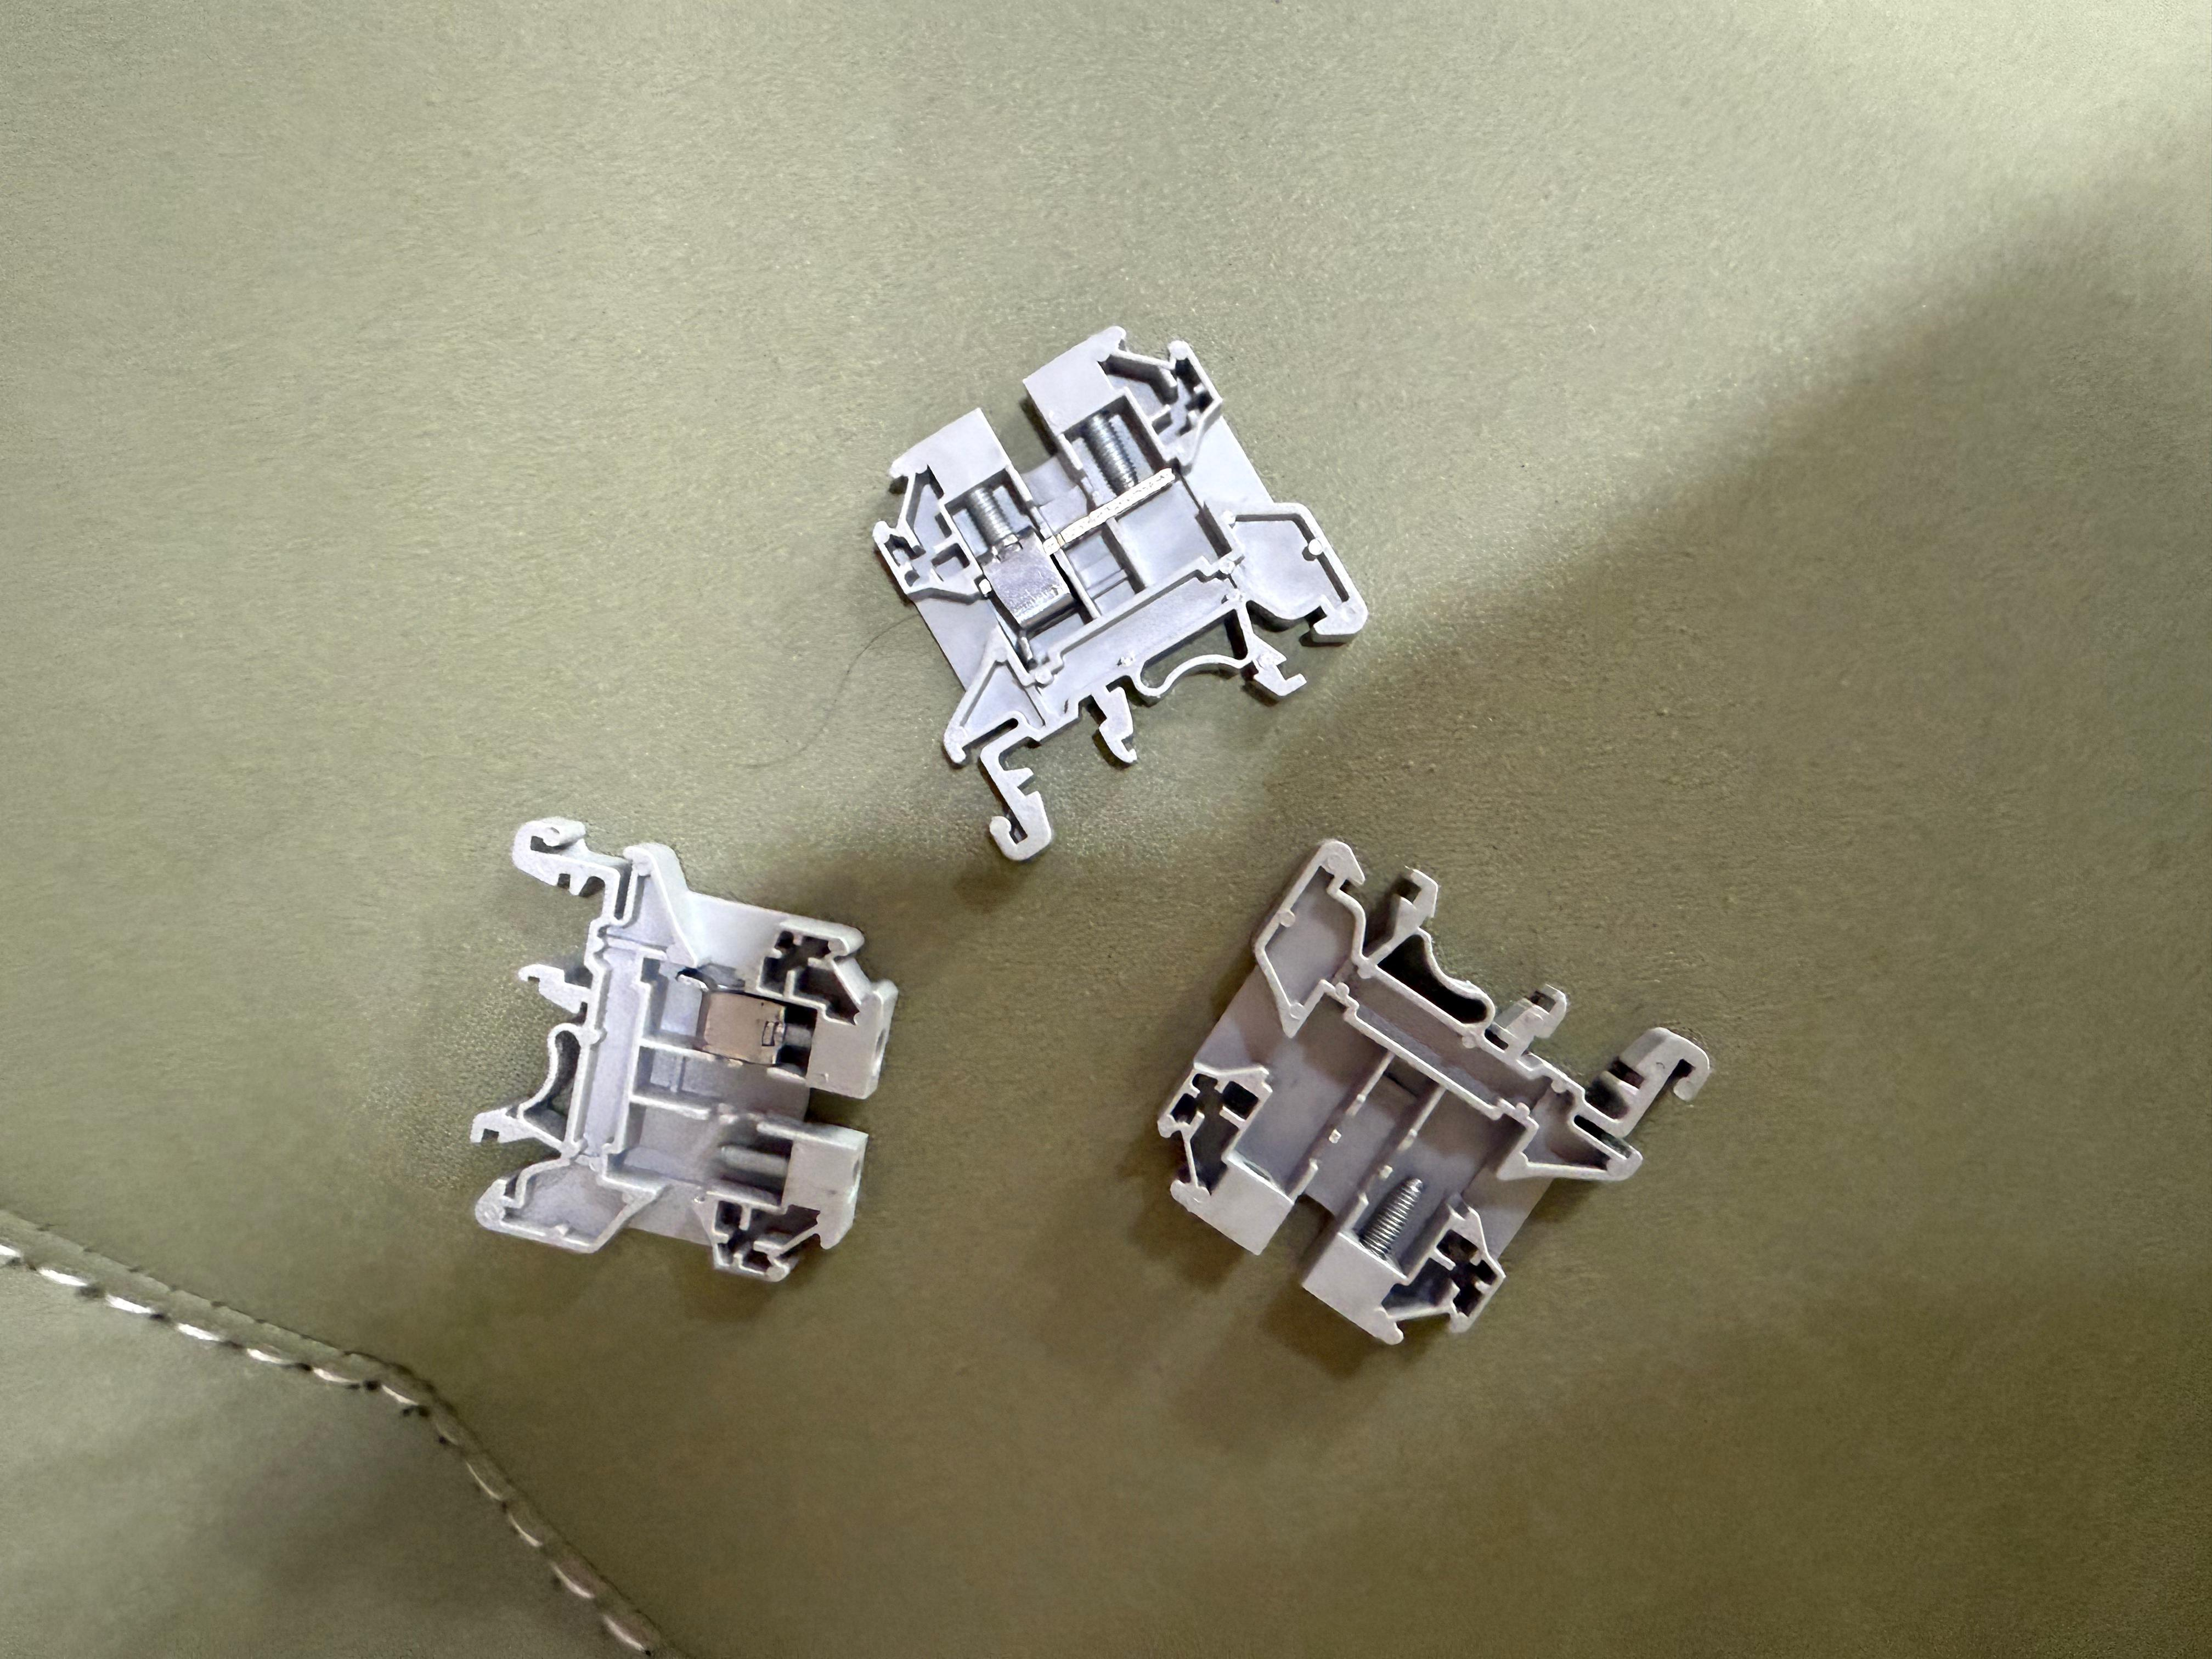Reject: (1141, 835, 1705, 1349), (867, 324, 1355, 836), (444, 819, 892, 1279)
